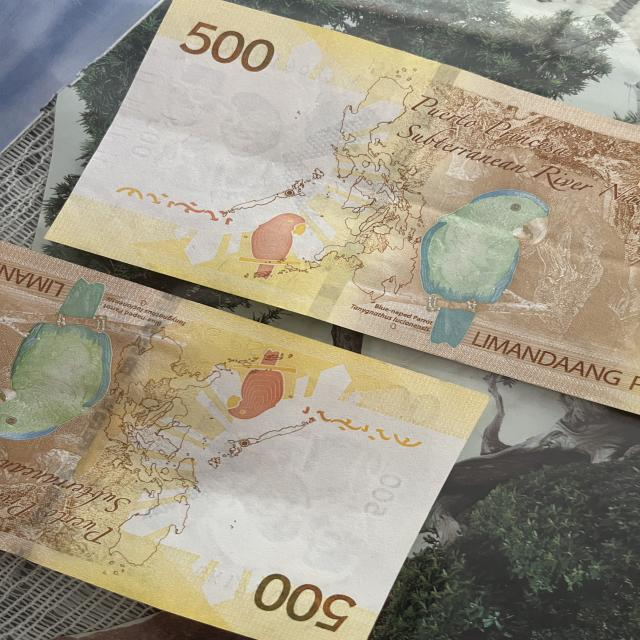500_big_parrot: (413, 185, 552, 348), (0, 275, 125, 442)
500_parrot_watermark: (235, 206, 318, 282), (223, 346, 293, 424)
value_watermark: (359, 471, 409, 517), (121, 113, 168, 161)
watermark: (231, 429, 403, 578), (147, 66, 312, 200)
